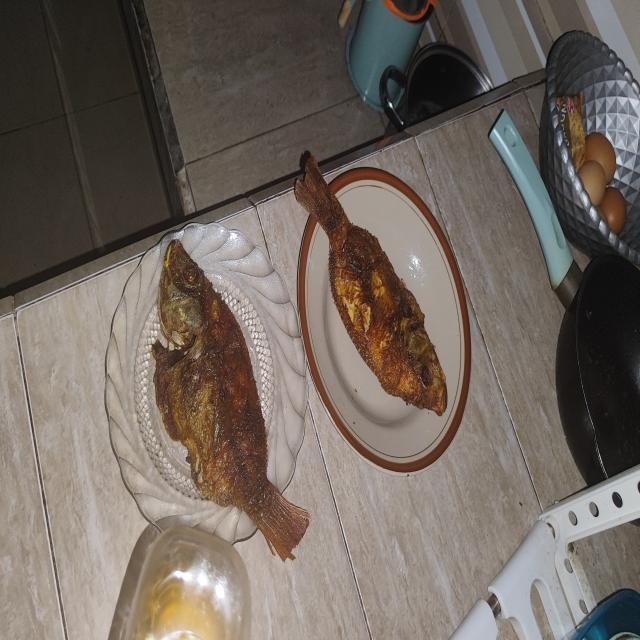ikan_mujair: (152, 240, 308, 561), (294, 151, 448, 416)
